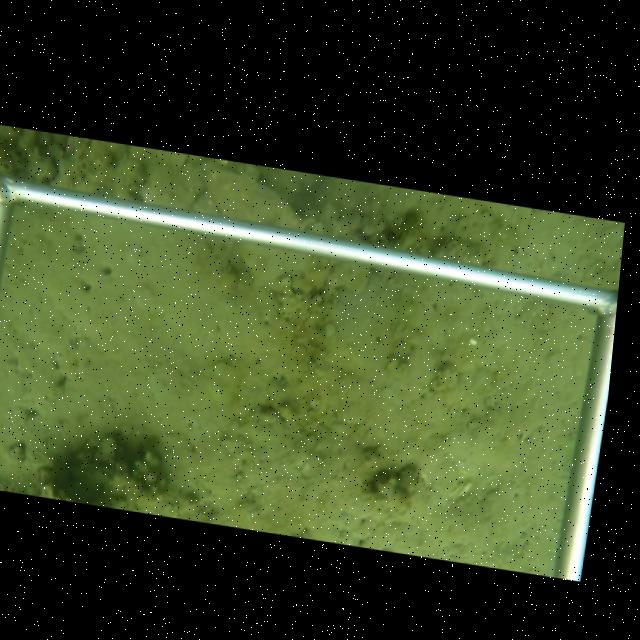Oyster-Closed: (393, 223, 423, 250)
Oyster-Indeterminate: (206, 168, 315, 287)
